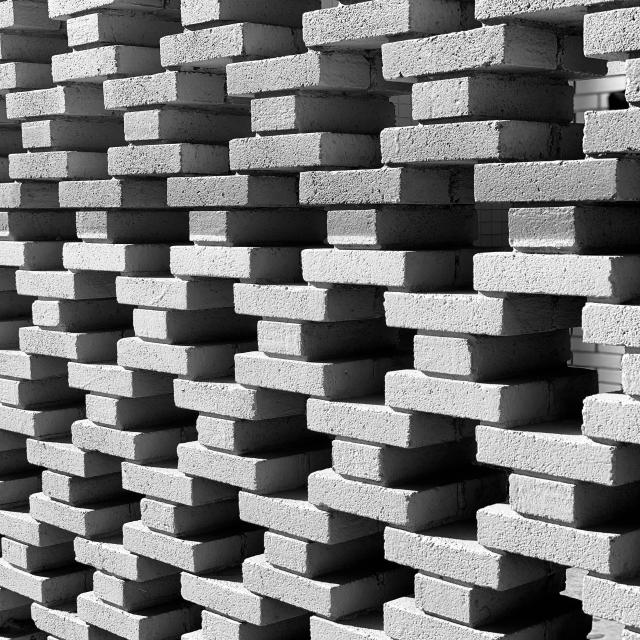Concrete: (0, 2, 640, 638)
